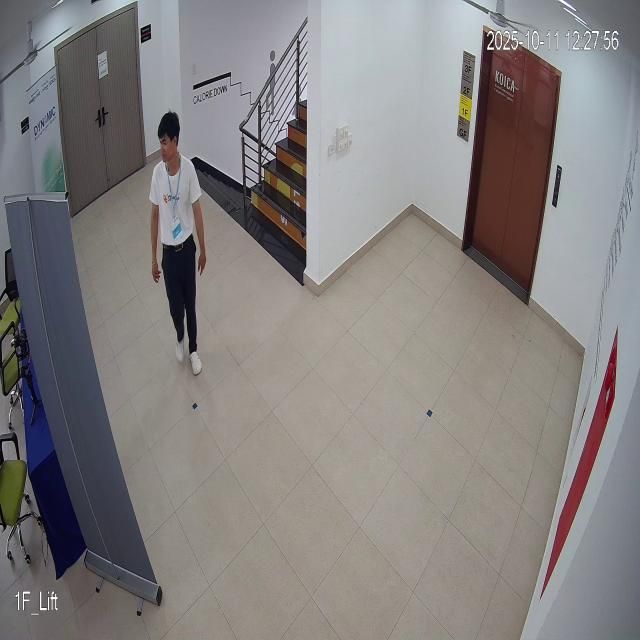face: (153, 100, 183, 167)
